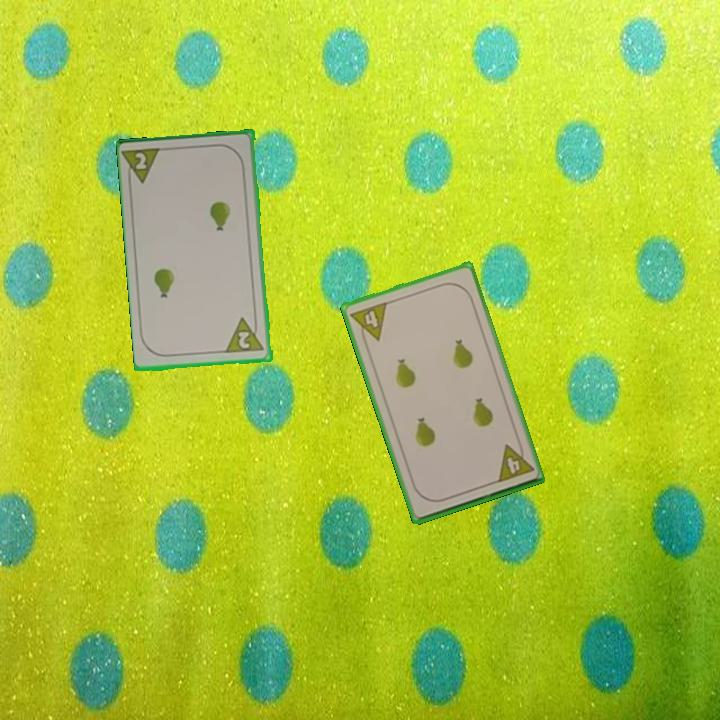2p: (121, 144, 166, 188), (223, 313, 267, 356)
4p: (347, 298, 390, 347), (493, 438, 536, 485)
